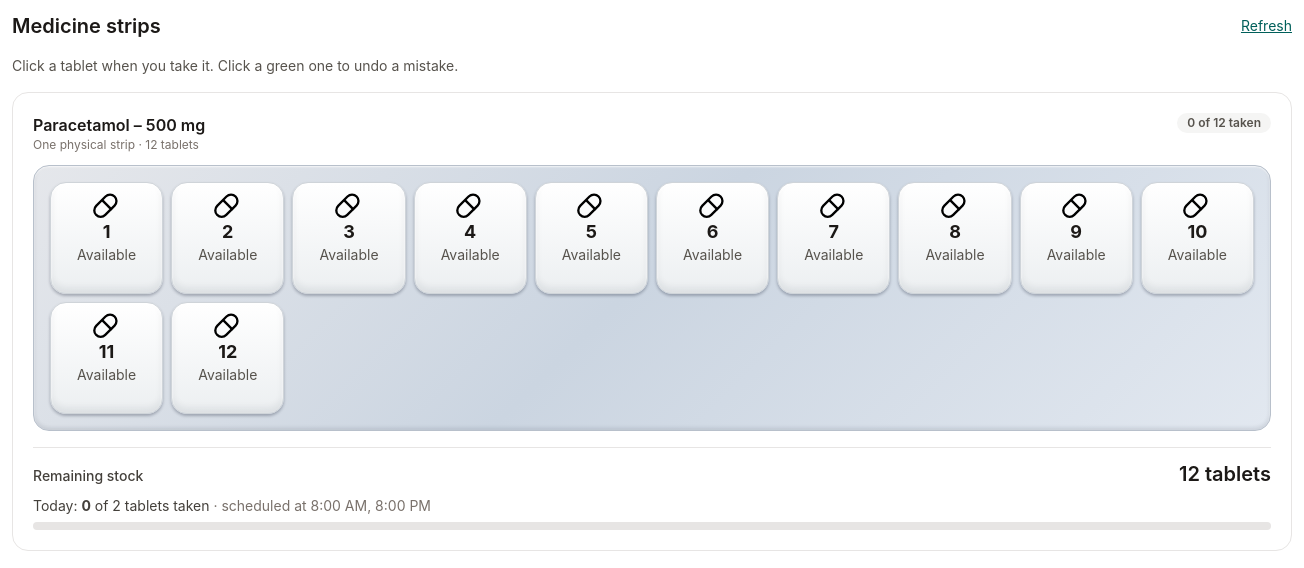
Test: tablet blister strip › morning and evening tablets are two different compartments on the same strip: 12 -> 11 -> 10
What coordinates should you click on to do the following:
click the button with aria-label "Tablet 1, available"
I would click on:
 (107, 238)
Its box is [50, 182, 163, 294].
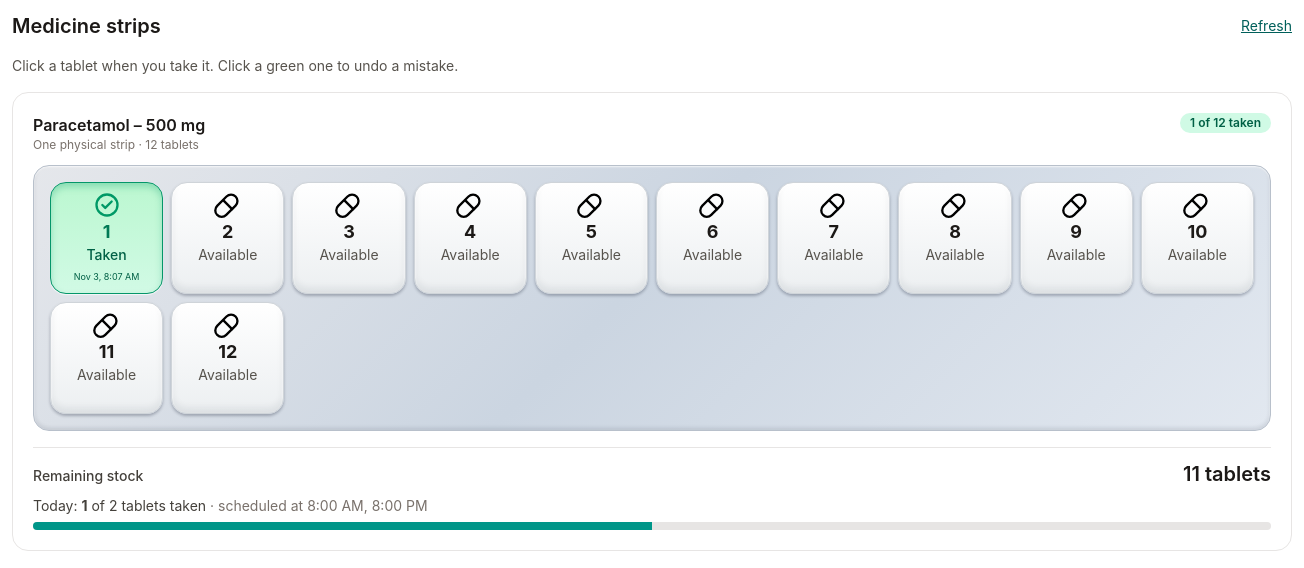
What coordinates should you click on to do the following:
click the button with aria-label "Tablet 2, available"
I would click on:
 (228, 238)
Its box is [171, 182, 284, 294].
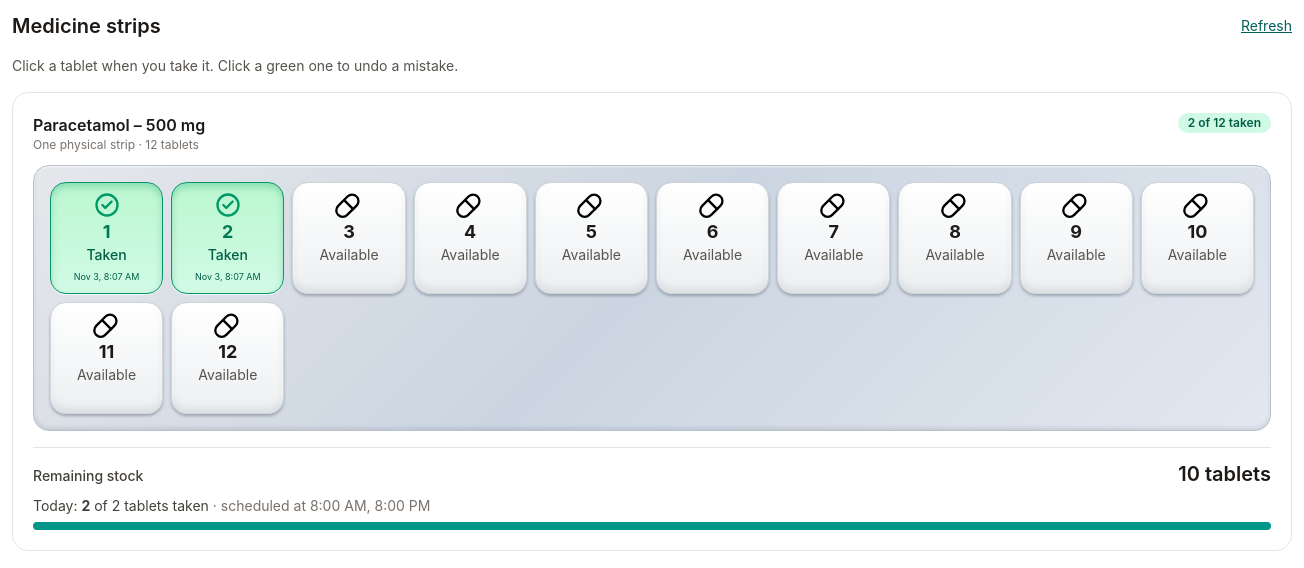
Expected: the text "2 of 12 taken" is shown, [1178, 113, 1271, 133]
Expected: the text "Today: 2 of 2 tablets taken · scheduled at 8:00 AM, 8:00 PM" is shown, [33, 497, 430, 514]
